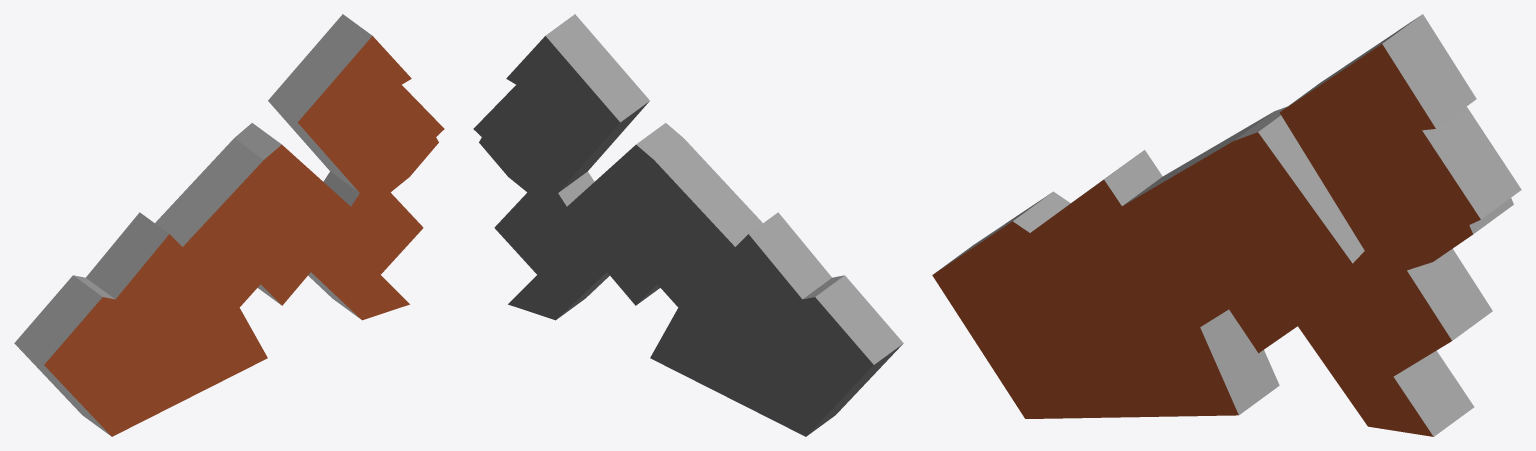
File: construction_2841_assumed_A_Casa_h6m.obj
The picture shows the model from 3 angles, left to right: view 1: azimuth 30°, elevation 25°; view 2: azimuth 150°, elevation 25°; view 3: azimuth 330°, elevation 25°; orthographic projection. The views are drawn at different scales.
Parts seen in each view (by area): view 1: construction_2841_assumed_A_Casa; view 2: construction_2841_assumed_A_Casa; view 3: construction_2841_assumed_A_Casa.
Boxes of the visible parts, left/top/right/bottom form: construction_2841_assumed_A_Casa: left=14, top=14, right=444, bottom=436; construction_2841_assumed_A_Casa: left=473, top=14, right=903, bottom=436; construction_2841_assumed_A_Casa: left=932, top=14, right=1521, bottom=436.
Size of the model in its own units: 46.63 by 37.54 by 6.
